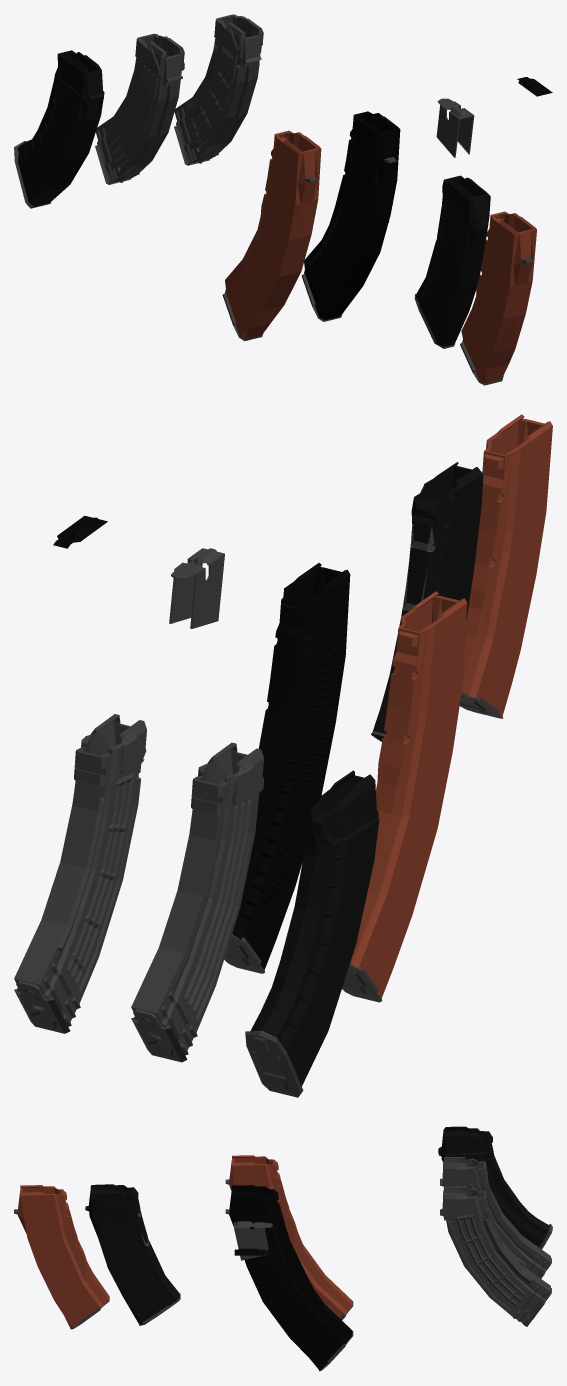
File: low-poly_ak_mags.glb
3 views of the same model, one above another, from view 1: azimuth 30°, elevation 25°; view 2: azimuth 150°, elevation 25°; view 3: azimuth 270°, elevation 25° (orthographic). The views are drawn at different scales.
Parts seen in each view (by area): view 1: mag_RPK_ribbed_0, mag_RPK_bake_2, mag_74_bake_3, mag_AKM_poly_8, mag_74_ribbed_4, mag_AKM_ribbed_7, mag_AKM_alu_5, follower_metal_6; view 2: mag_RPK_bake_2, mag_RPK_ribbed_0, mag_AKM_poly_8, mag_AKM_ribbed_7, mag_AKM_alu_5, mag_74_bake_3, mag_74_ribbed_4, follower_metal_6, follower_plastic_1; view 3: mag_RPK_ribbed_0, mag_74_ribbed_4, mag_74_bake_3, mag_AKM_alu_5, mag_RPK_bake_2, mag_AKM_poly_8, mag_AKM_ribbed_7, follower_metal_6.
Part boxes in pixels (<box>): mag_RPK_ribbed_0: <box>301,111,400,321</box>; mag_RPK_bake_2: <box>222,130,321,341</box>; mag_74_bake_3: <box>460,211,536,385</box>; mag_AKM_poly_8: <box>14,50,104,208</box>; mag_74_ribbed_4: <box>414,175,490,348</box>; mag_AKM_ribbed_7: <box>95,33,184,184</box>; mag_AKM_alu_5: <box>174,14,263,165</box>; follower_metal_6: <box>436,98,474,157</box>; mag_RPK_bake_2: <box>342,591,467,1002</box>; mag_RPK_ribbed_0: <box>224,563,350,973</box>; mag_AKM_poly_8: <box>245,770,379,1097</box>; mag_AKM_ribbed_7: <box>131,742,264,1062</box>; mag_AKM_alu_5: <box>14,714,146,1033</box>; mag_74_bake_3: <box>459,414,552,718</box>; mag_74_ribbed_4: <box>371,462,483,741</box>; follower_metal_6: <box>169,548,224,628</box>; follower_plastic_1: <box>53,515,107,548</box>; mag_RPK_ribbed_0: <box>225,1185,353,1371</box>; mag_74_ribbed_4: <box>85,1184,180,1325</box>; mag_74_bake_3: <box>14,1185,109,1329</box>; mag_AKM_alu_5: <box>440,1186,551,1326</box>; mag_RPK_bake_2: <box>225,1155,353,1319</box>; mag_AKM_poly_8: <box>438,1126,552,1249</box>; mag_AKM_ribbed_7: <box>440,1157,551,1278</box>; follower_metal_6: <box>234,1221,272,1260</box>.
Bounding box in the file's own units: 0.4273 × 0.284 × 0.7644.
